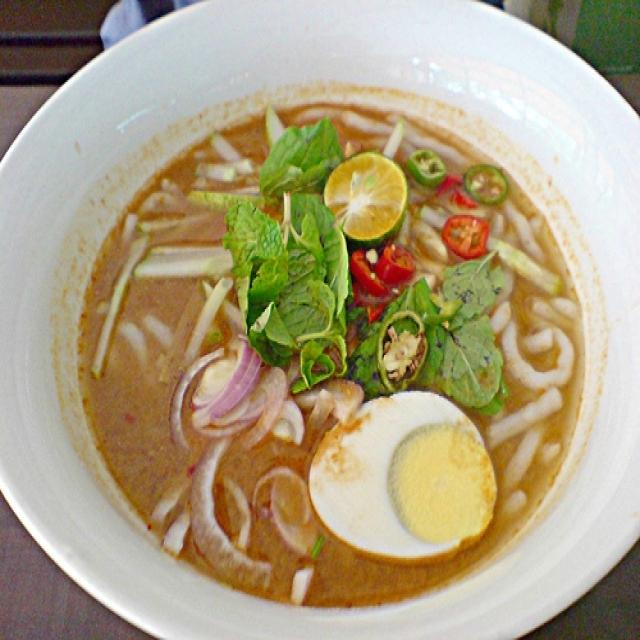面条主食: (37, 44, 616, 622)
